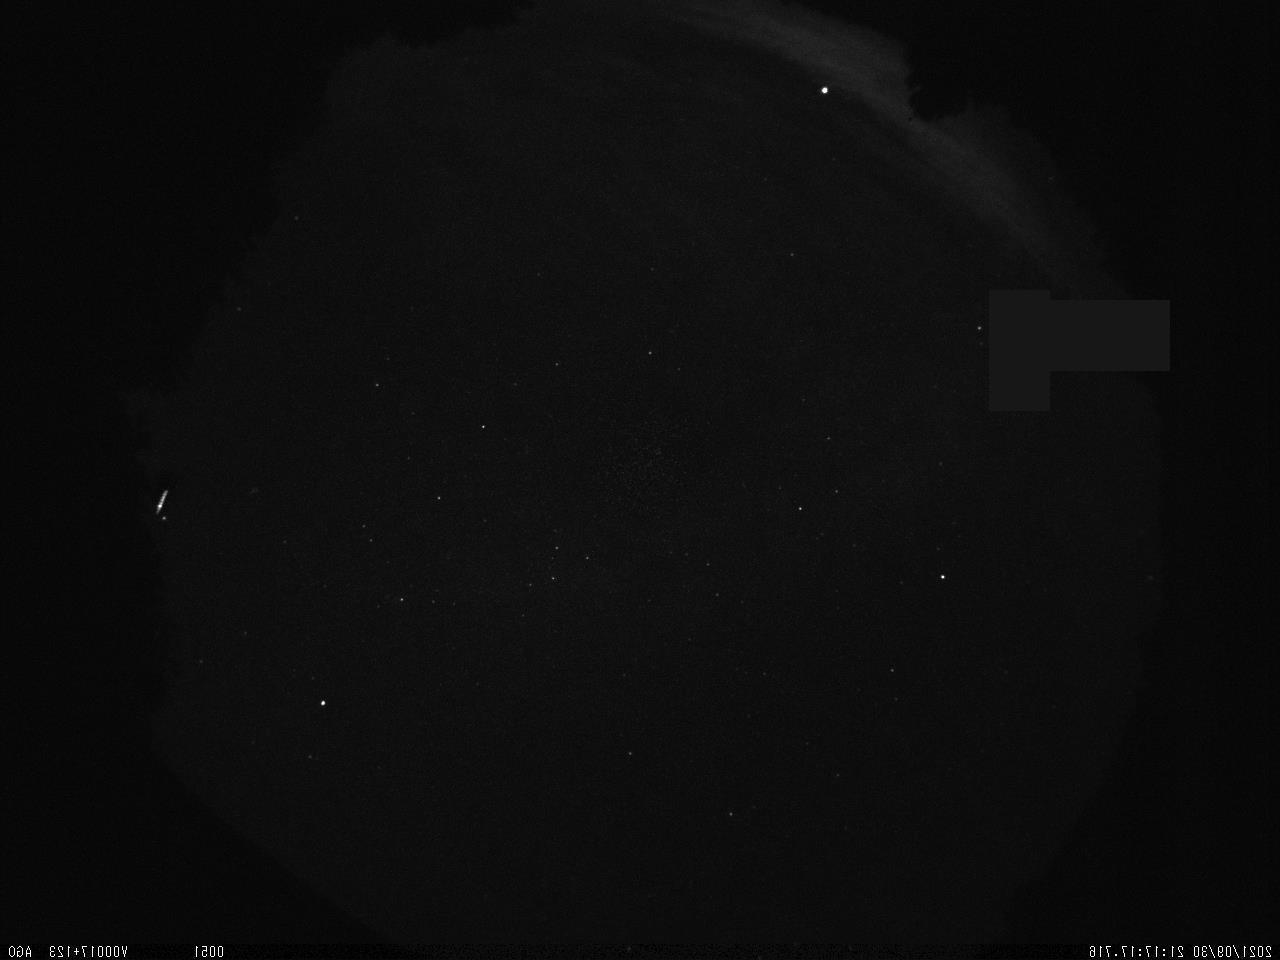meteor: (150, 478, 180, 519)
